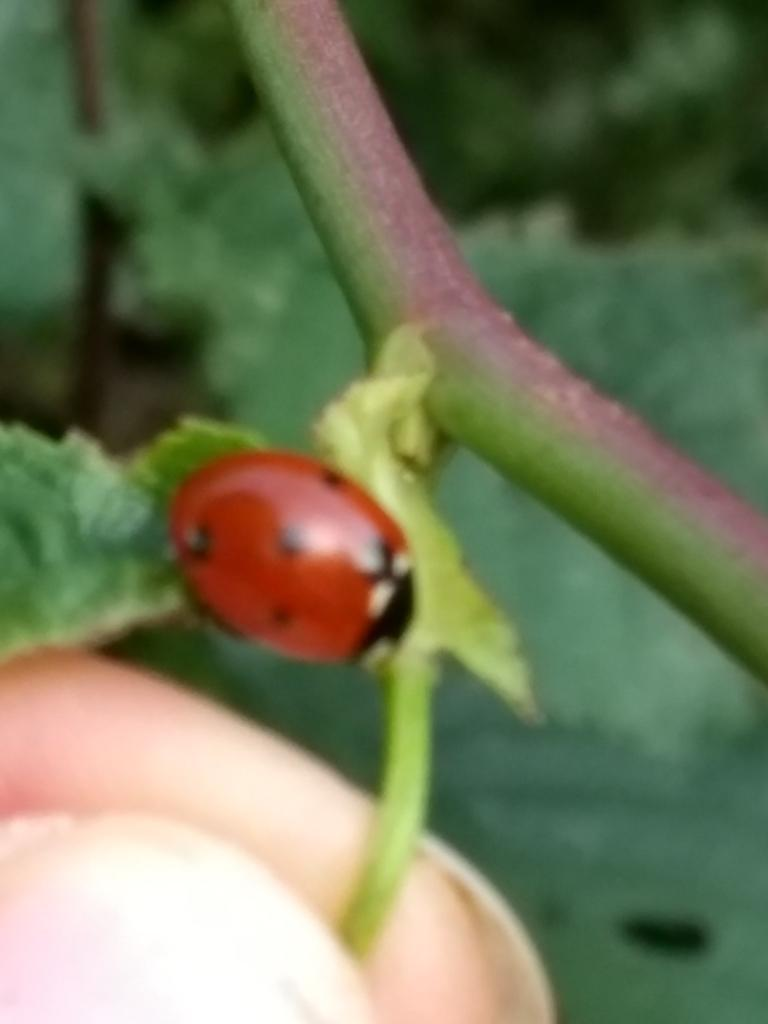ladybug: (169, 449, 421, 674)
